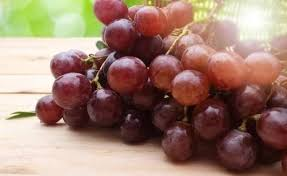Red Grapes: (44, 47, 261, 150)
